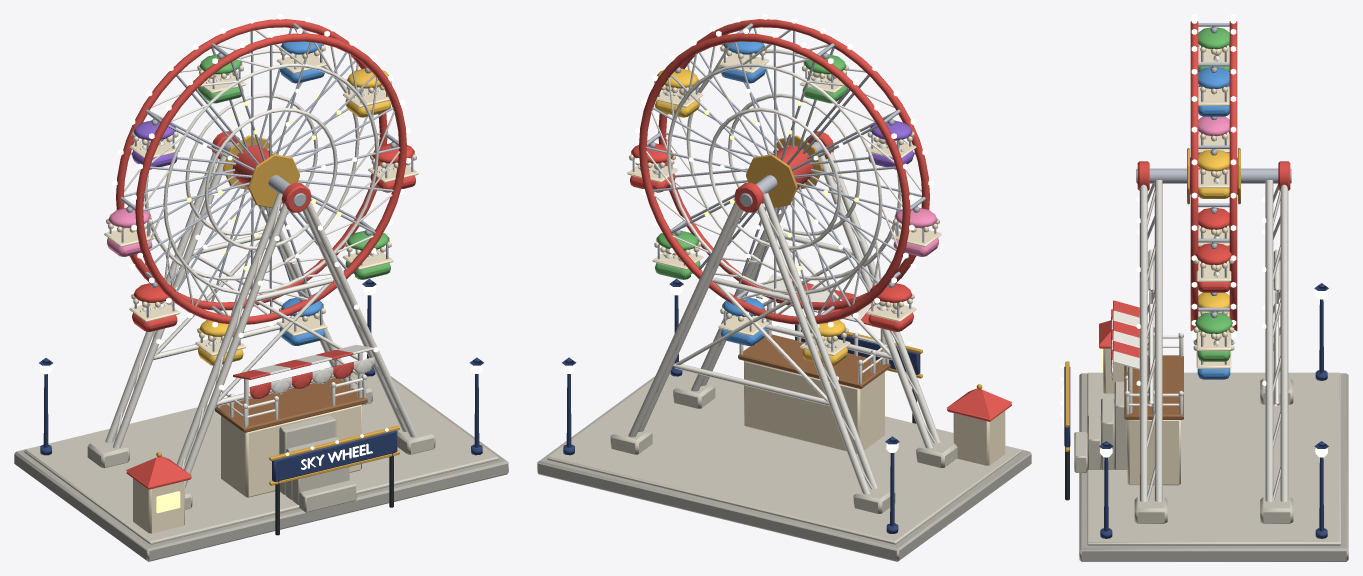
Rendered from wheel.glb.
3 renders of one model, left to right at view 1: azimuth 30°, elevation 25°; view 2: azimuth 150°, elevation 25°; view 3: azimuth 270°, elevation 25°, orthographic.
Visible parts, largest first — view 1: base_pw_stone, base_pw_white_paint, wheel_pw_accent_paint, wheel_pw_steel_chrome, wheel_pw_white_paint, base_pw_concrete, base_pw_cream_paint, base_pw_navy_paint, base_pw_wood, base_pw_accent_paint, wheel_pw_gold_brass, wheel_pw_lamp_glow (+16 smaller); view 2: base_pw_stone, base_pw_white_paint, wheel_pw_accent_paint, wheel_pw_steel_chrome, wheel_pw_white_paint, base_pw_cream_paint, base_pw_concrete, base_pw_wood, base_pw_navy_paint, base_pw_accent_paint, wheel_pw_gold_brass, wheel_pw_lamp_glow (+13 smaller); view 3: base_pw_stone, base_pw_white_paint, base_pw_concrete, wheel_pw_accent_paint, base_pw_cream_paint, base_pw_navy_paint, base_pw_wood, base_pw_steel_chrome, base_pw_accent_paint, base_pw_white_canvas, wheel_pw_lamp_glow, hang9_pw_green_paint (+19 smaller).
Part boxes in pixels (left/top/right/bottom): base_pw_stone: left=24, top=372, right=498, bottom=544; base_pw_white_paint: left=105, top=152, right=417, bottom=488; wheel_pw_accent_paint: left=116, top=19, right=406, bottom=324; wheel_pw_steel_chrome: left=120, top=23, right=400, bottom=316; wheel_pw_white_paint: left=124, top=28, right=399, bottom=316; base_pw_concrete: left=14, top=376, right=508, bottom=561; base_pw_cream_paint: left=133, top=404, right=361, bottom=533; base_pw_navy_paint: left=39, top=279, right=483, bottom=481; base_pw_wood: left=215, top=378, right=367, bottom=432; base_pw_accent_paint: left=126, top=131, right=311, bottom=489; wheel_pw_gold_brass: left=223, top=135, right=299, bottom=207; wheel_pw_lamp_glow: left=112, top=14, right=410, bottom=328; base_pw_stone: left=547, top=365, right=1021, bottom=544; base_pw_white_paint: left=628, top=152, right=940, bottom=494; wheel_pw_accent_paint: left=639, top=19, right=929, bottom=324; wheel_pw_steel_chrome: left=645, top=23, right=925, bottom=316; wheel_pw_white_paint: left=646, top=28, right=921, bottom=316; base_pw_cream_paint: left=744, top=361, right=1005, bottom=465; base_pw_concrete: left=537, top=376, right=1031, bottom=561; base_pw_wood: left=738, top=334, right=890, bottom=388; base_pw_navy_paint: left=562, top=279, right=920, bottom=533; base_pw_accent_paint: left=734, top=131, right=1012, bottom=421; wheel_pw_gold_brass: left=746, top=135, right=822, bottom=207; wheel_pw_lamp_glow: left=635, top=14, right=933, bottom=328; base_pw_stone: left=1074, top=372, right=1340, bottom=545; base_pw_white_paint: left=1125, top=179, right=1288, bottom=502; base_pw_concrete: left=1079, top=373, right=1348, bottom=561; wheel_pw_accent_paint: left=1190, top=21, right=1237, bottom=330; base_pw_cream_paint: left=1103, top=348, right=1180, bottom=485; base_pw_navy_paint: left=1064, top=283, right=1328, bottom=538; base_pw_wood: left=1124, top=355, right=1183, bottom=419; base_pw_steel_chrome: left=1136, top=168, right=1291, bottom=183; base_pw_accent_paint: left=1099, top=161, right=1290, bottom=348; base_pw_white_canvas: left=1111, top=310, right=1139, bottom=380; wheel_pw_lamp_glow: left=1191, top=14, right=1236, bottom=338; hang9_pw_green_paint: left=1195, top=312, right=1232, bottom=361.
Size of the model in its own units: 2.8 by 3.29 by 1.93.
